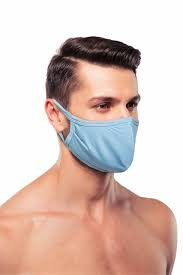with-mask: (42, 38, 147, 175)
